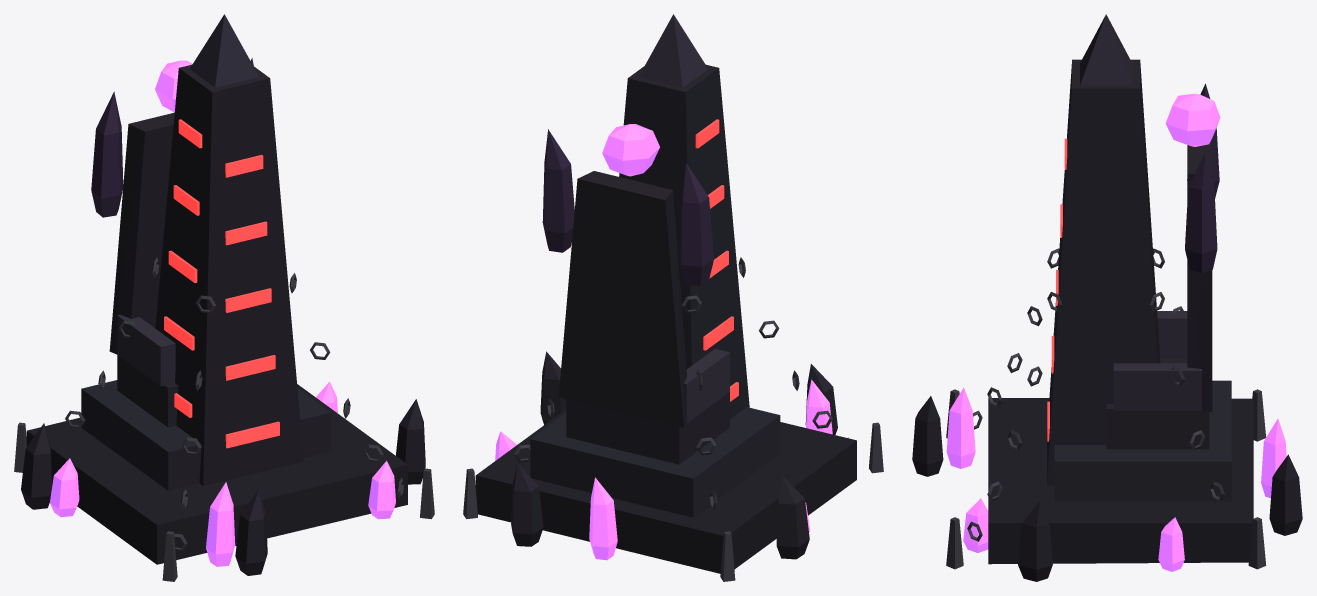
Rendered from abyss.glb.
3 views of the same model, side by side, from view 1: azimuth 30°, elevation 25°; view 2: azimuth 150°, elevation 25°; view 3: azimuth 270°, elevation 25° (orthographic).
Parts seen in each view (by area): view 1: abyss_void_throne_a, abyss_chained_obelisk_a; view 2: abyss_void_throne_a, abyss_chained_obelisk_a; view 3: abyss_void_throne_a, abyss_chained_obelisk_a.
Part boxes in pixels (<box>): abyss_void_throne_a: <box>21,58,425,575</box>; abyss_chained_obelisk_a: <box>14,14,434,581</box>; abyss_void_throne_a: <box>475,124,856,573</box>; abyss_chained_obelisk_a: <box>463,14,883,581</box>; abyss_void_throne_a: <box>912,83,1302,581</box>; abyss_chained_obelisk_a: <box>946,14,1266,569</box>.
Bounding box in the file's own units: 2.65 × 3.65 × 2.65.
